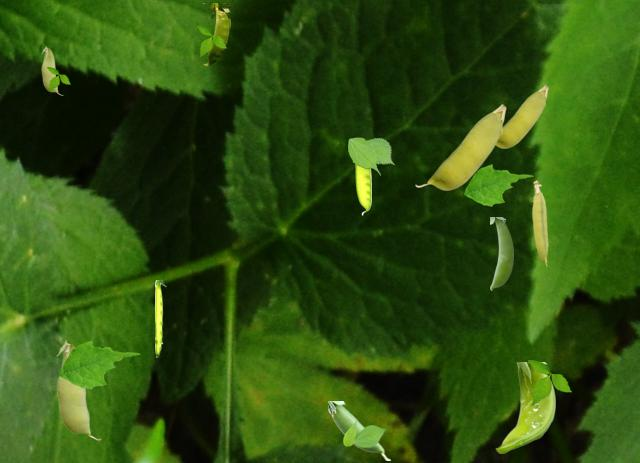pea: (415, 104, 505, 189), (495, 362, 554, 452), (56, 340, 100, 439), (328, 401, 389, 459), (496, 85, 547, 147), (203, 3, 229, 65), (490, 217, 512, 289), (532, 180, 547, 265), (41, 46, 62, 94), (354, 164, 370, 214), (155, 280, 165, 356)
